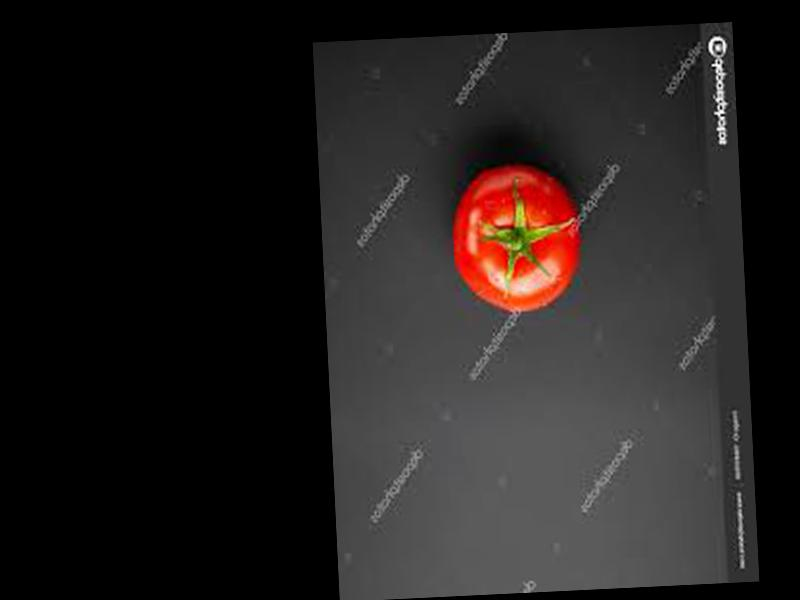Tomato: (448, 162, 584, 317)
